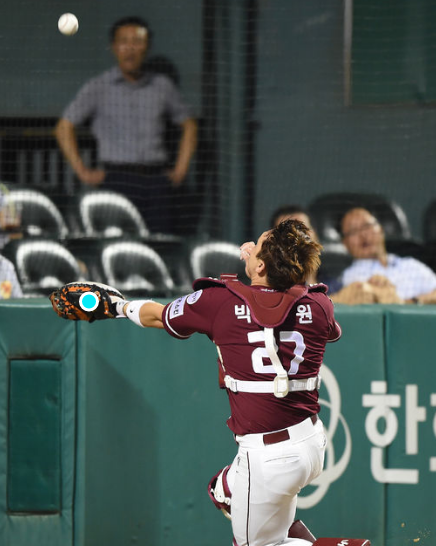ball: (55, 12, 80, 37)
